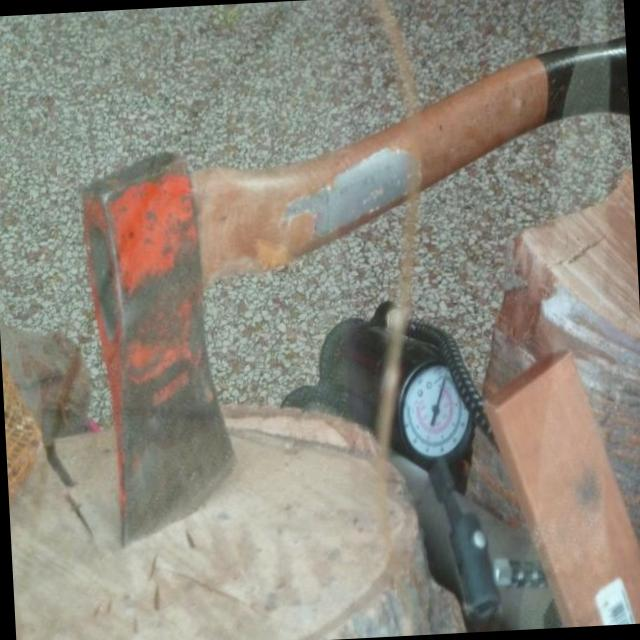Axe: (83, 39, 629, 540)
